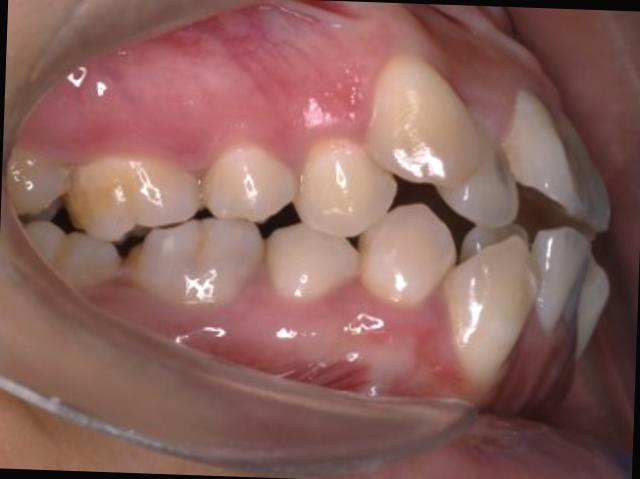canine class III 1/4: (346, 51, 549, 396)
molar class III 1/2: (59, 127, 270, 324)
